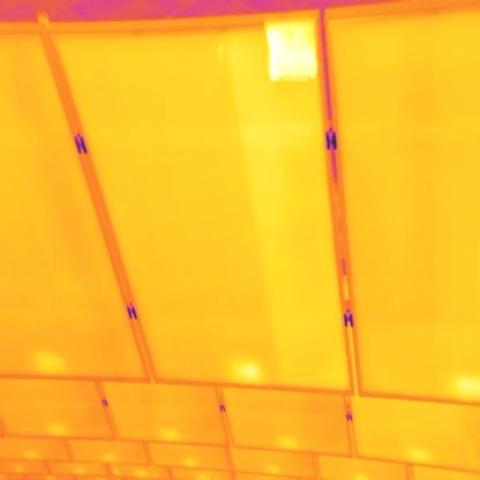fault: (267, 23, 318, 75)
